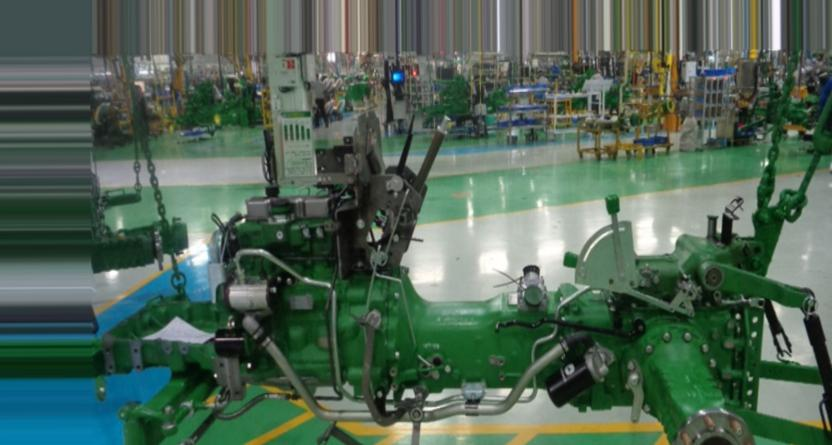engine: (99, 98, 831, 445)
